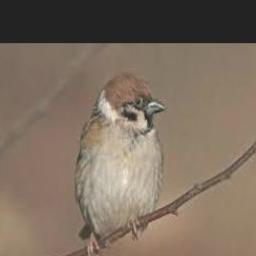Sparrow: (76, 72, 167, 256)
